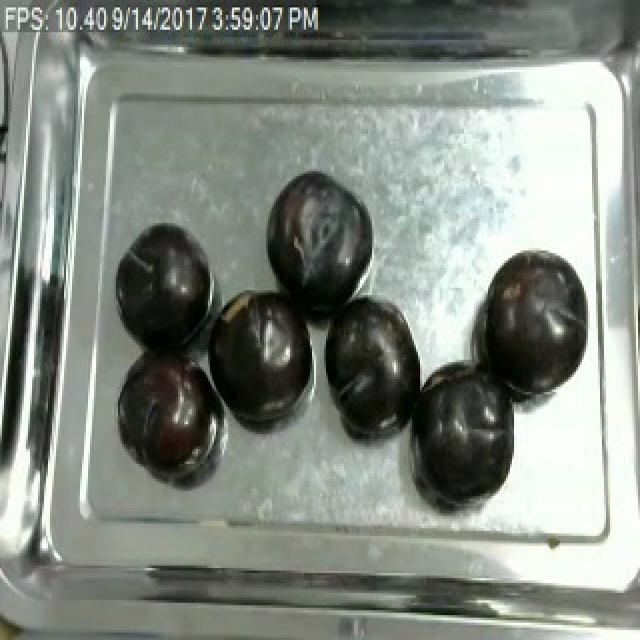Fruit: (474, 241, 590, 404), (260, 166, 376, 325), (402, 357, 520, 511), (204, 278, 320, 429), (316, 288, 426, 447), (108, 216, 220, 352), (116, 348, 228, 477)
